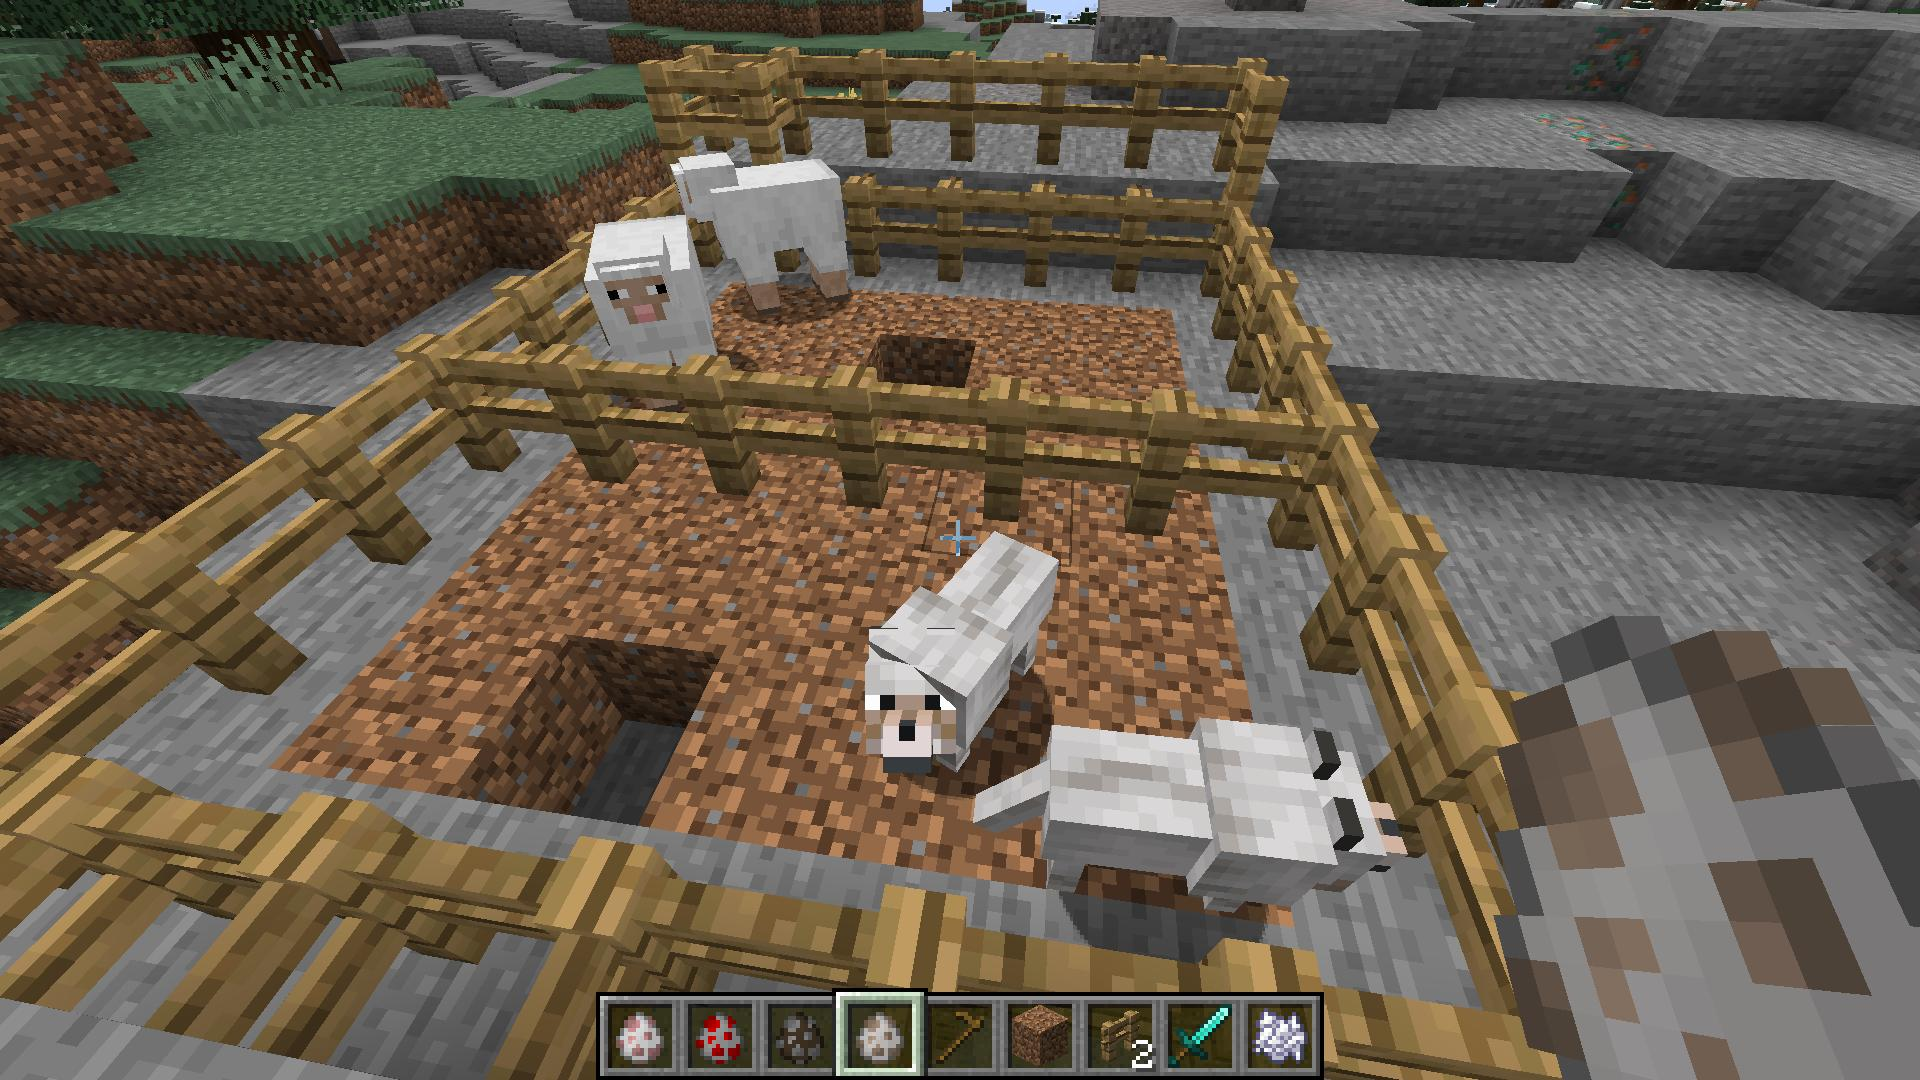sheep: (674, 144, 855, 313), (584, 211, 727, 371)
wolf: (968, 716, 1432, 897), (856, 526, 1062, 771)
